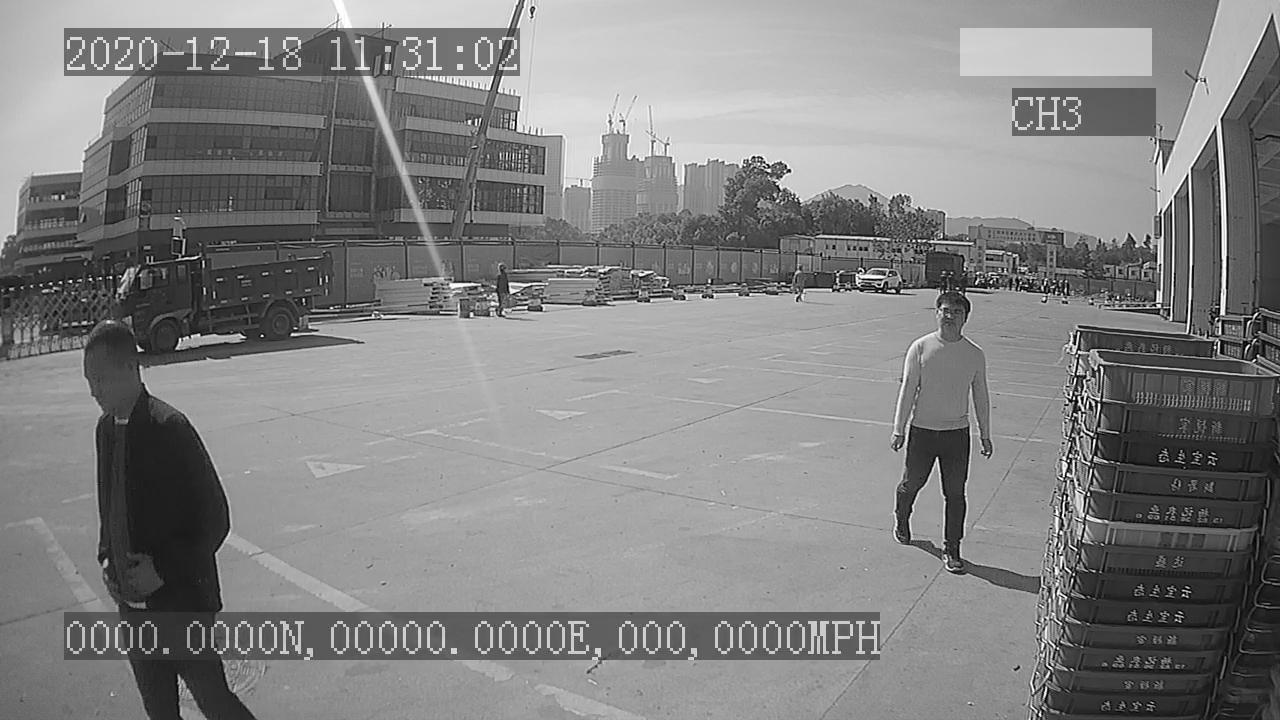person: (886, 284, 995, 576)
